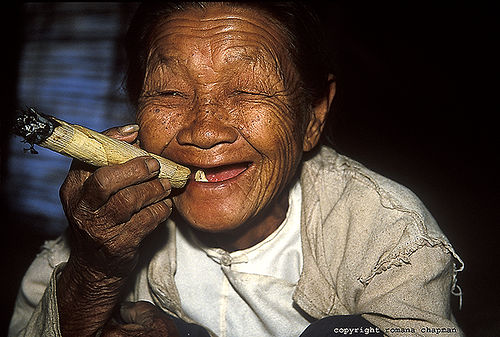cigarette: (6, 104, 189, 195)
